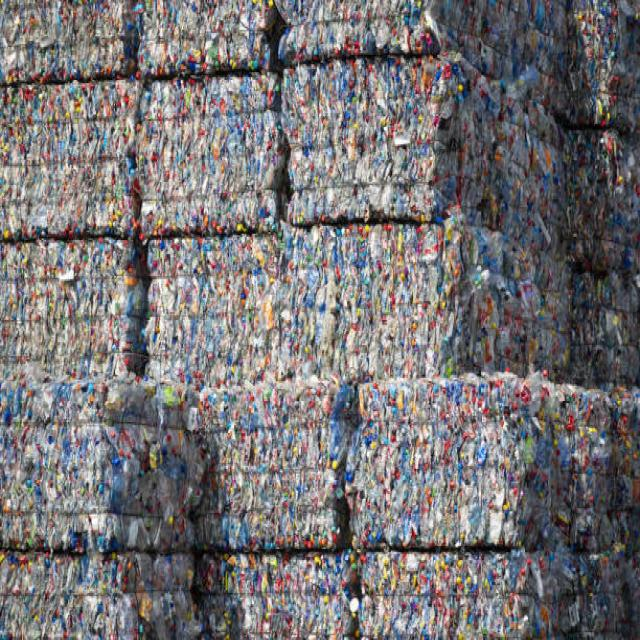trash: (11, 16, 624, 608)
